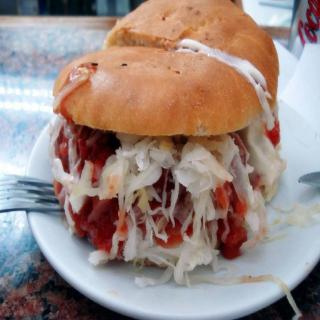Bread: (100, 0, 280, 113), (53, 47, 263, 137)
Hamburger: (46, 0, 320, 320)
